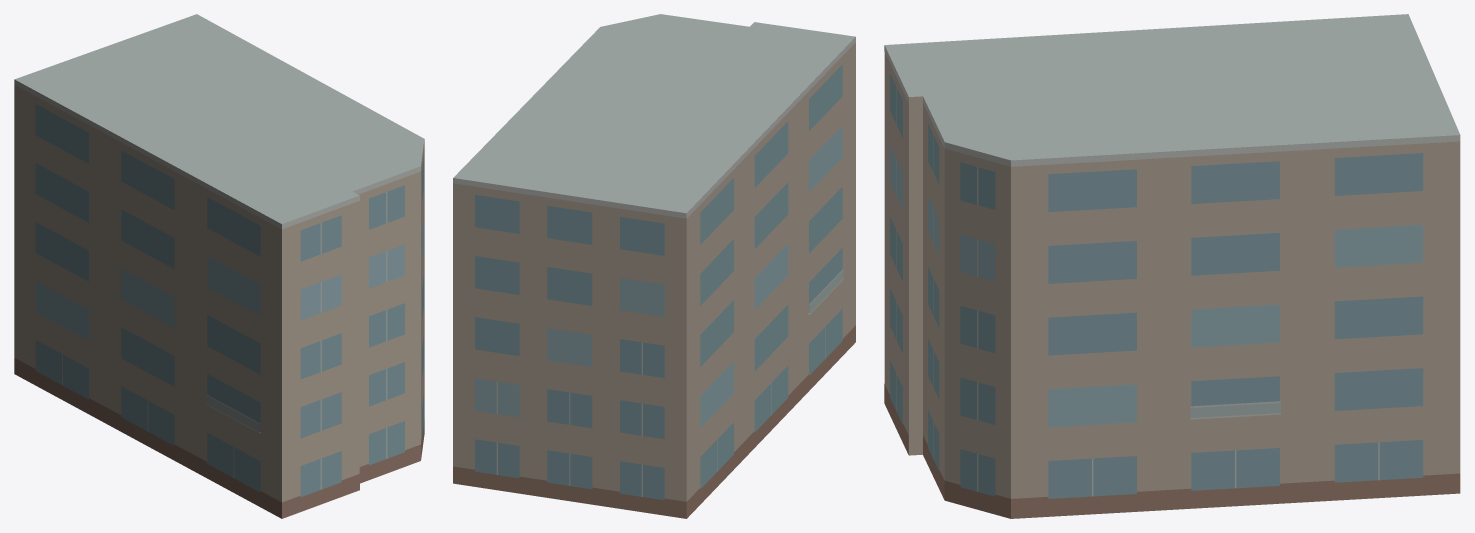
Rendered from survey-upis-32937762.glb.
3 views of the same model, side by side, from view 1: azimuth 30°, elevation 25°; view 2: azimuth 150°, elevation 25°; view 3: azimuth 270°, elevation 25° (orthographic). The views are drawn at different scales.
Parts seen in each view (by area): view 1: survey-upis-32937762.tmp; view 2: survey-upis-32937762.tmp; view 3: survey-upis-32937762.tmp.
Boxes of the visible parts, bbox=[...] form: survey-upis-32937762.tmp: bbox=[14, 14, 424, 518]; survey-upis-32937762.tmp: bbox=[453, 14, 855, 518]; survey-upis-32937762.tmp: bbox=[884, 14, 1460, 518].
Size of the model in its own units: 12.1 by 13.8 by 20.11.
